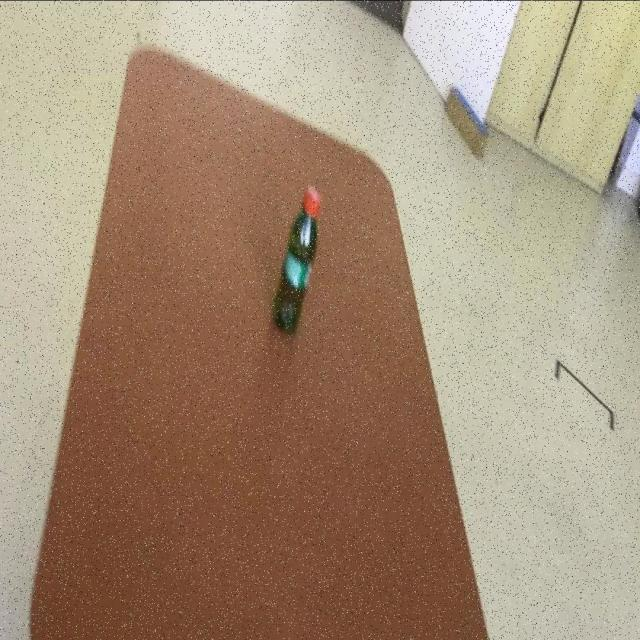Guarana: (270, 186, 321, 340)
